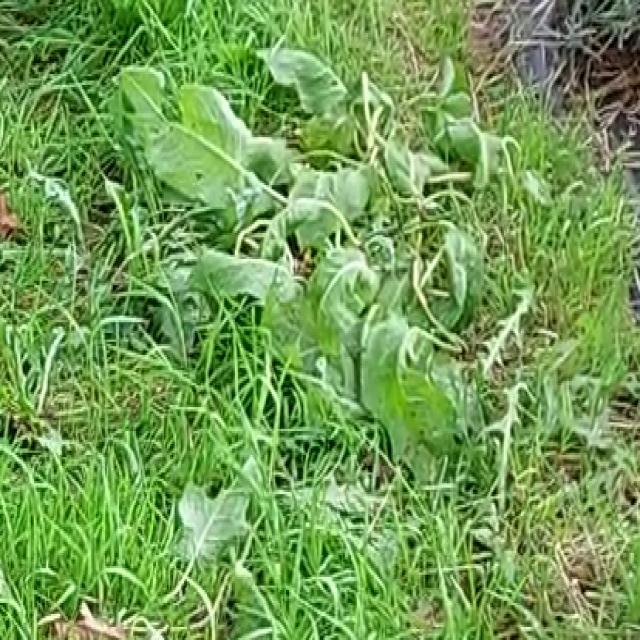organic waste: (274, 115, 520, 481), (119, 24, 417, 307)
